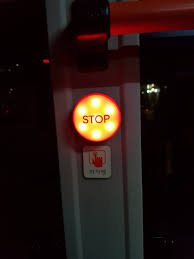bell: (69, 90, 125, 148)
